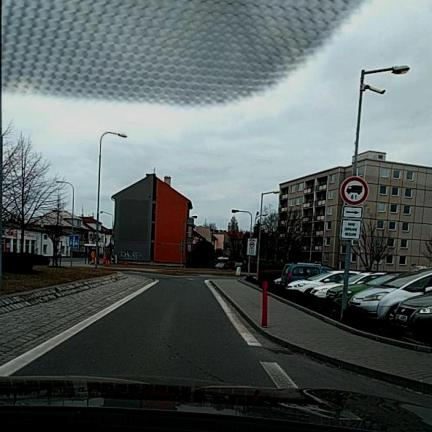Road: (15, 276, 431, 404)
